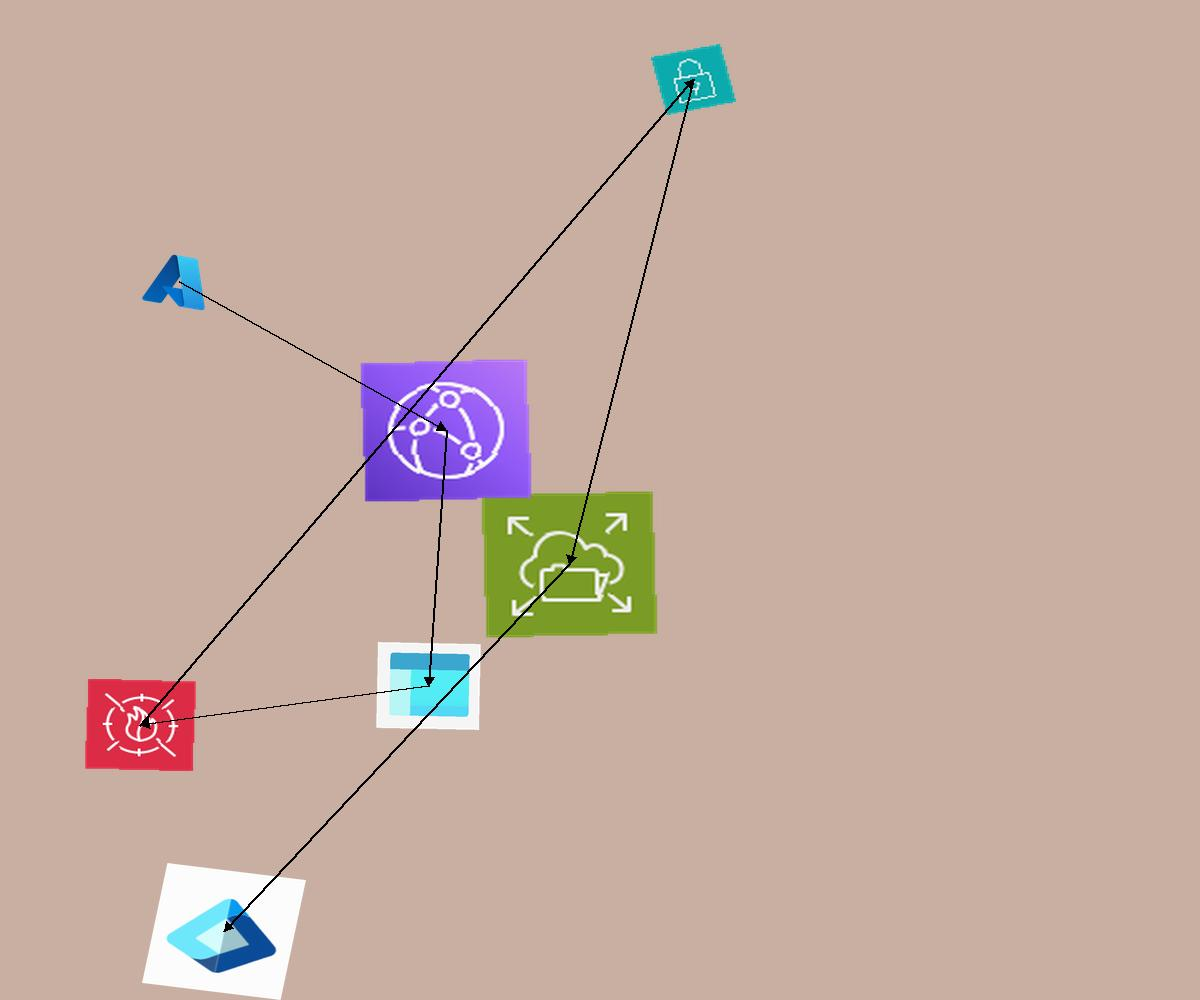AWS-CloudFront: (359, 358, 533, 503)
AWS-EFS: (480, 490, 659, 639)
AWS-Private-subnet: (651, 44, 736, 115)
AWS-WAF: (84, 678, 197, 772)
Azure_management-portal: (376, 642, 481, 730)
Azure_microsoft_entra: (142, 863, 306, 1000)
Azure_services: (138, 247, 220, 315)
